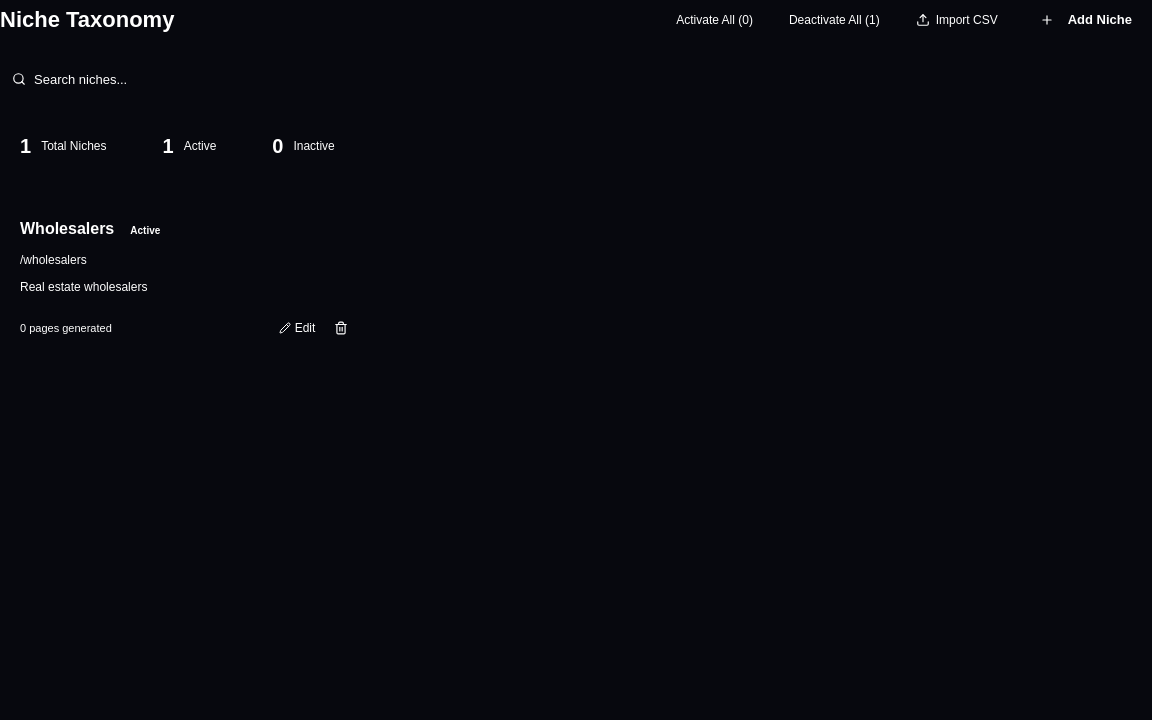
Test: NichesManager delete › deletes a niche with no generated pages and warns about unlinked guides
Later steps or results of the test are not shown.
Step 1. Click the button named "Delete Wholesalers" → coordinates (341, 328), box x1=329 y1=316 x2=353 y2=340
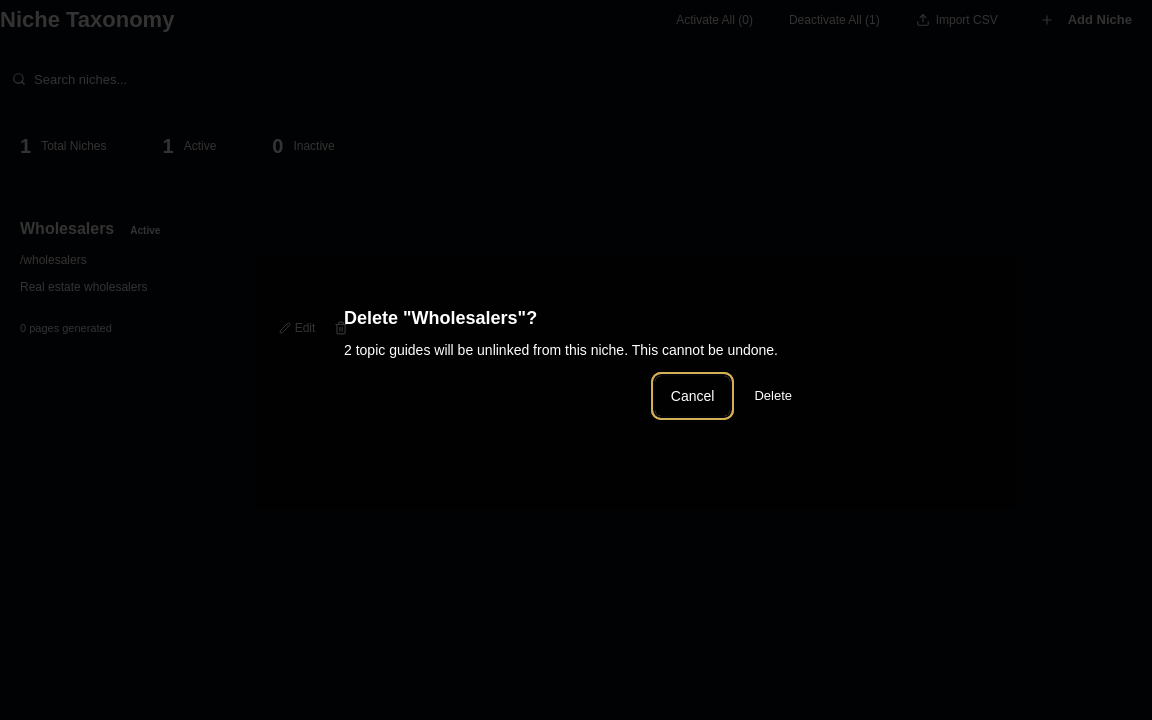
Expected: the text "2 topic guides will be unlinked" is shown, x1=344 y1=342 x2=778 y2=358
